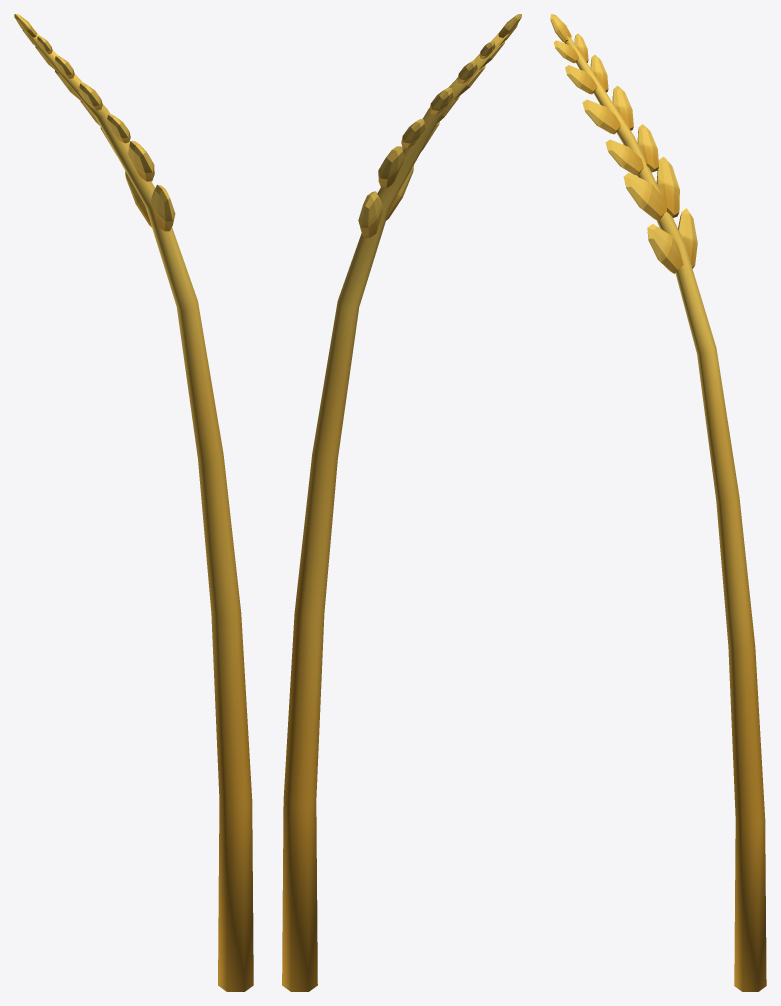
The model's file is grain_03.glb.
The picture shows the model from 3 angles, left to right: view 1: azimuth 30°, elevation 25°; view 2: azimuth 150°, elevation 25°; view 3: azimuth 330°, elevation 25°; orthographic projection. The views are drawn at different scales.
Parts seen in each view (by area): view 1: Grain_Base; view 2: Grain_Base; view 3: Grain_Base.
Part boxes in pixels (x1,y1,x2,y2): Grain_Base: (14,14,253,991); Grain_Base: (282,14,521,991); Grain_Base: (550,14,766,991).
Size of the model in its own units: 2.23 by 9.34 by 0.7393.
1 material, 1 textured.
